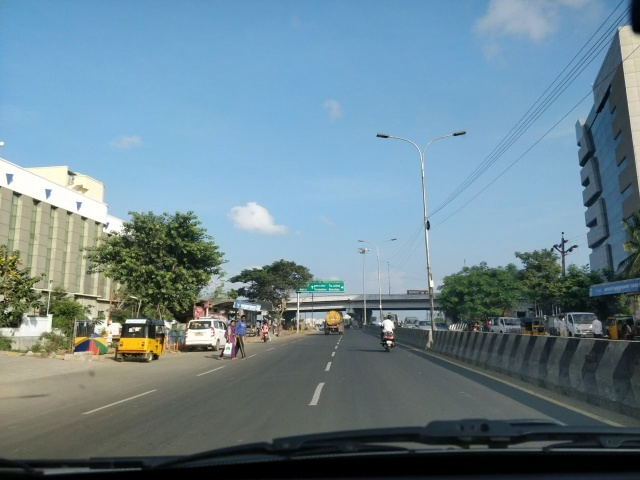auto: (116, 313, 169, 365), (608, 310, 638, 344), (522, 315, 550, 337)
car: (185, 314, 232, 351), (553, 304, 594, 340), (485, 313, 522, 339)
motorbike: (378, 312, 397, 353), (260, 320, 272, 344)
person: (236, 314, 249, 361), (223, 313, 234, 363), (589, 313, 604, 340), (558, 313, 568, 339)
truck: (319, 308, 348, 337)
